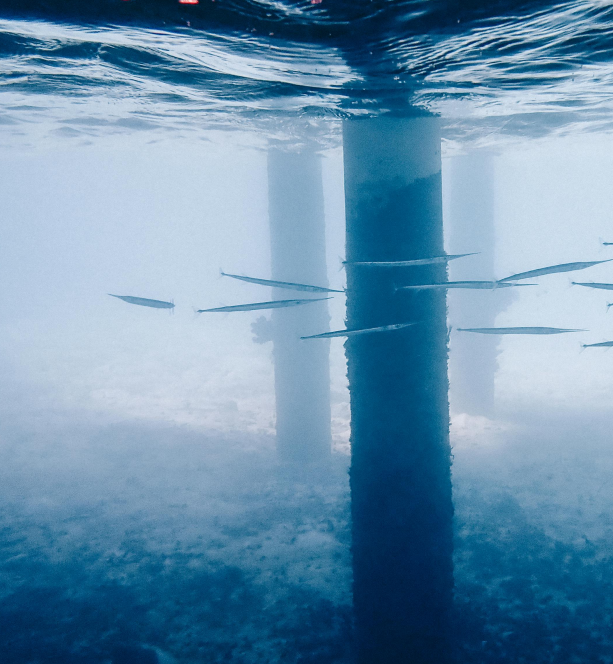fishSmall: (335, 245, 480, 274), (486, 257, 613, 287), (218, 267, 353, 295), (192, 296, 334, 319), (386, 279, 535, 300), (297, 320, 422, 343), (451, 322, 589, 338), (108, 294, 175, 314), (576, 337, 613, 354), (566, 278, 613, 290)
